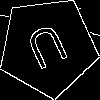U: (23, 22, 75, 80)
